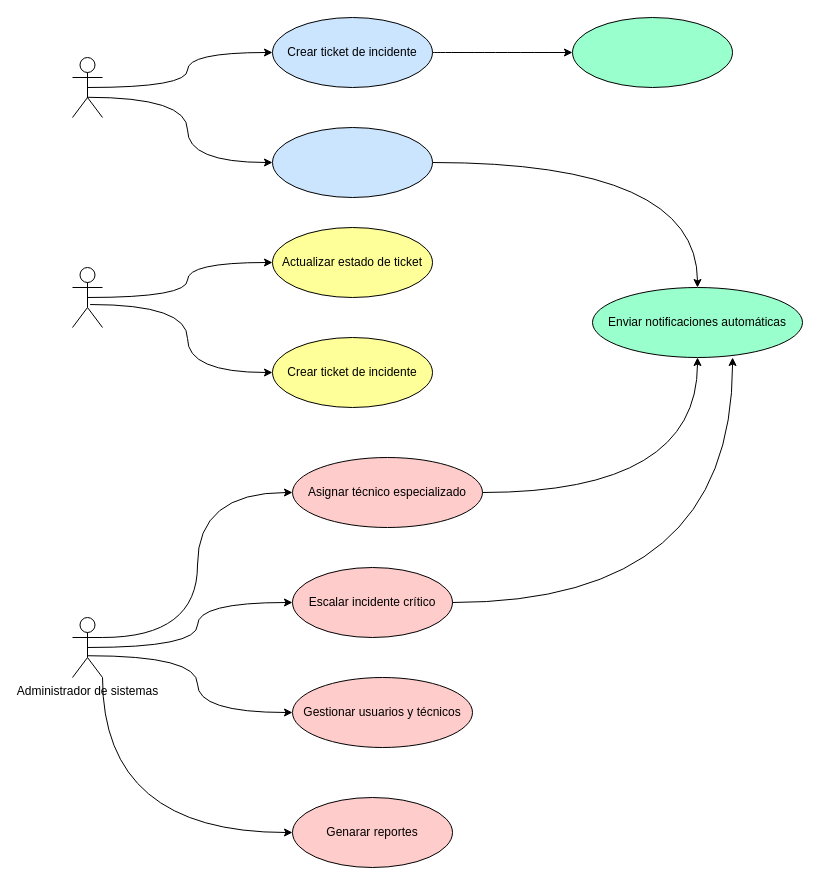
Some shapes in this 820 by 885 pixel diagram are drawn without their labels. The centre of each missing label's shape, as x and y in pixels:
"Categorizar fallo" goes at point 652,52.
"Consultar estado del ticket" goes at point 352,162.
"Técnico de soporte" goes at point 87,297.
"Usuario final" goes at point 87,87.
